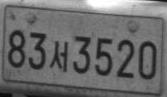0: (138, 40, 157, 79)
2: (115, 38, 135, 78)
3: (27, 31, 46, 70), (72, 35, 91, 74)
5: (94, 37, 112, 76)
8: (6, 28, 26, 68)
서: (48, 40, 69, 72)
